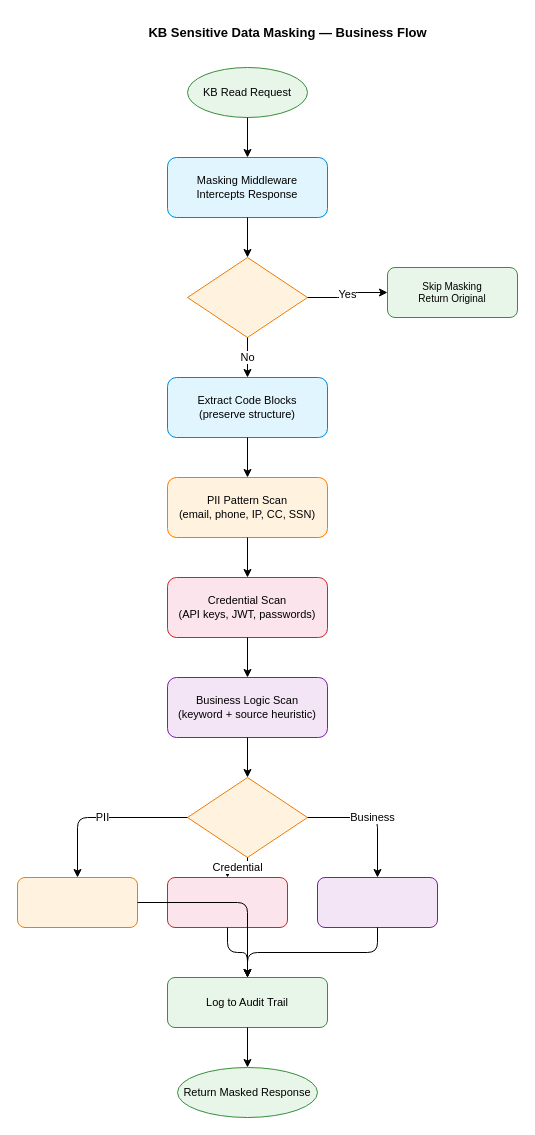
The diagram is 535 pixels wide and 1135 high, and some of its shapes have lost their labels. The centre of each missing label's shape, as x and y in pixels:
"Entry in Allowlist?" belongs at (x=247, y=297).
"Mask Credentials (always redact)" belongs at (x=227, y=902).
"Mask PII (partial redact)" belongs at (x=77, y=902).
"Role-Based Masking Decision" belongs at (x=247, y=817).
"Summary Only (CONFIDENTIAL)" belongs at (x=377, y=902).
